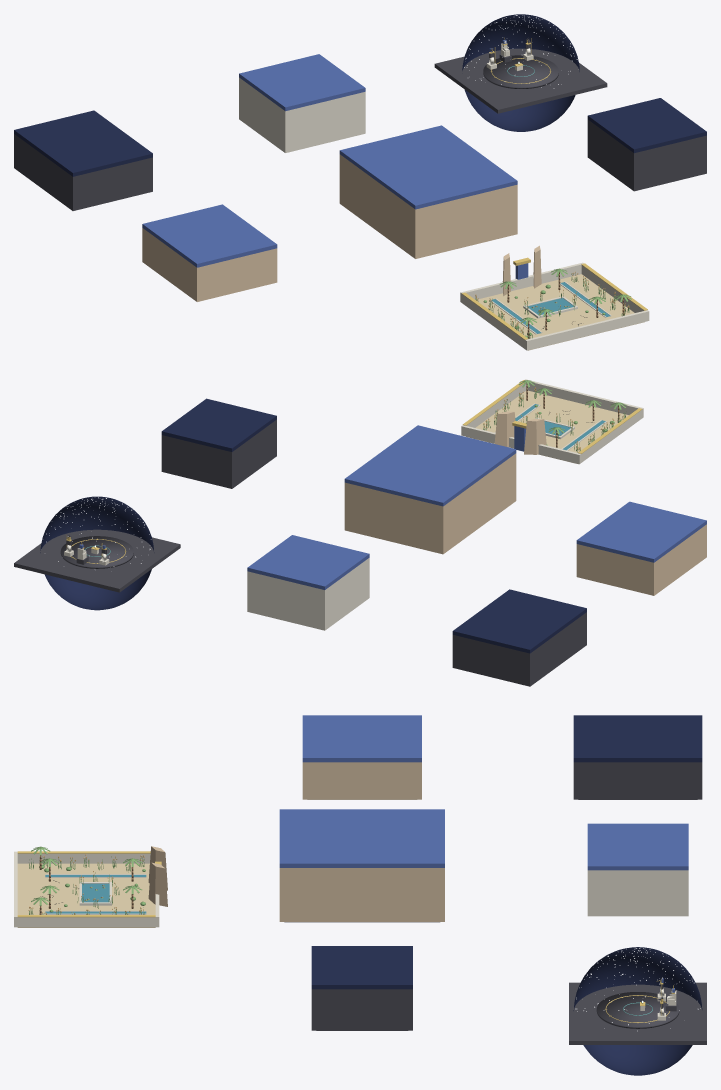
Rendered from temple.glb.
3 views of the same model, one above another, from view 1: azimuth 30°, elevation 25°; view 2: azimuth 150°, elevation 25°; view 3: azimuth 270°, elevation 25° (orthographic). The views are drawn at different scales.
Parts seen in each view (by area): view 1: Hall_ceiling, Hall_wallF, Forgotten_ceiling, Astral_dome, Archive_ceiling, Astral_ground, Garden_floor, Hiero_ceiling, Memories_ceiling, Hall_wallL, Hiero_wallF, Memories_wallF (+11 smaller); view 2: Hall_ceiling, Astral_dome, Hall_wallB, Forgotten_ceiling, Archive_ceiling, Astral_ground, Hiero_ceiling, Memories_ceiling, Hall_wallL, Garden_floor, Hiero_wallB, Memories_wallB (+13 smaller); view 3: Hall_ceiling, Hall_wallR, Astral_dome, Forgotten_ceiling, Archive_ceiling, Astral_ground, Garden_floor, Hiero_ceiling, Forgotten_wallR, Memories_ceiling, Hiero_wallR, Archive_wallR (+5 smaller).
Boxes of the visible parts, x1=… form: Hall_ceiling: x1=339, y1=125, x2=517, y2=209; Hall_wallF: x1=413, y1=184, x2=517, y2=258; Forgotten_ceiling: x1=14, y1=110, x2=152, y2=176; Astral_dome: x1=462, y1=14, x2=579, y2=131; Archive_ceiling: x1=142, y1=204, x2=277, y2=267; Astral_ground: x1=434, y1=48, x2=607, y2=113; Garden_floor: x1=477, y1=274, x2=644, y2=350; Hiero_ceiling: x1=239, y1=54, x2=365, y2=111; Memories_ceiling: x1=587, y1=98, x2=706, y2=153; Hall_wallL: x1=341, y1=156, x2=413, y2=256; Hiero_wallF: x1=283, y1=91, x2=365, y2=152; Memories_wallF: x1=632, y1=135, x2=706, y2=191; Hall_ceiling: x1=344, y1=425, x2=516, y2=506; Astral_dome: x1=40, y1=496, x2=154, y2=610; Hall_wallB: x1=344, y1=482, x2=445, y2=554; Forgotten_ceiling: x1=452, y1=589, x2=586, y2=653; Archive_ceiling: x1=576, y1=501, x2=706, y2=562; Astral_ground: x1=14, y1=529, x2=180, y2=592; Hiero_ceiling: x1=247, y1=535, x2=369, y2=589; Memories_ceiling: x1=161, y1=398, x2=276, y2=451; Hall_wallL: x1=445, y1=455, x2=514, y2=552; Garden_floor: x1=466, y1=390, x2=628, y2=464; Hiero_wallB: x1=247, y1=571, x2=326, y2=630; Memories_wallB: x1=161, y1=435, x2=234, y2=488; Hall_ceiling: x1=279, y1=809, x2=444, y2=867; Hall_wallR: x1=284, y1=868, x2=440, y2=921; Astral_dome: x1=573, y1=947, x2=702, y2=1075; Forgotten_ceiling: x1=573, y1=715, x2=702, y2=762; Archive_ceiling: x1=302, y1=715, x2=421, y2=762; Astral_ground: x1=569, y1=982, x2=706, y2=1044; Garden_floor: x1=17, y1=863, x2=155, y2=927; Hiero_ceiling: x1=587, y1=823, x2=688, y2=870; Forgotten_wallR: x1=578, y1=762, x2=697, y2=799; Memories_ceiling: x1=311, y1=946, x2=412, y2=989; Hiero_wallR: x1=592, y1=870, x2=683, y2=916; Archive_wallR: x1=307, y1=762, x2=417, y2=799.
Bounding box in the file's own units: 146 × 28 × 151.
